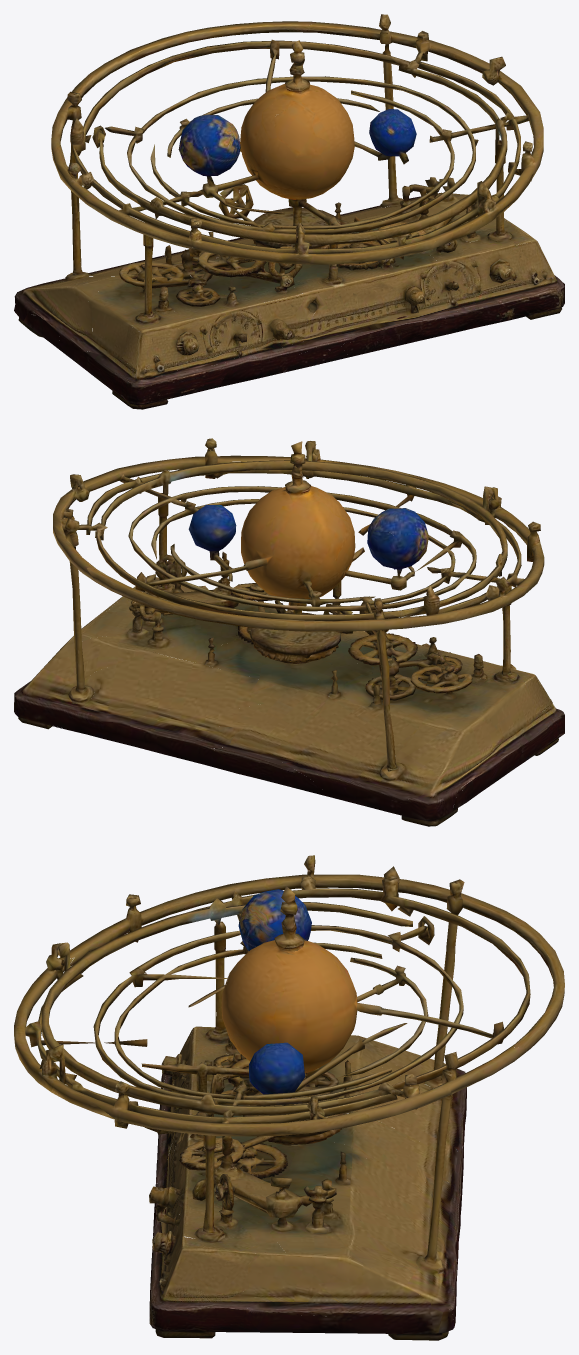
The model's file is the_celestial_orrery.glb.
3 renders of one model, top to bottom at view 1: azimuth 30°, elevation 25°; view 2: azimuth 150°, elevation 25°; view 3: azimuth 270°, elevation 25°, orthographic. The views are drawn at different scales.
Parts seen in each view (by area): view 1: tripo_node_f2754474-e090-436a-9652-a0b1a70d9f44; view 2: tripo_node_f2754474-e090-436a-9652-a0b1a70d9f44; view 3: tripo_node_f2754474-e090-436a-9652-a0b1a70d9f44.
Boxes of the visible parts, box(x1,y1,x2,y2) form: tripo_node_f2754474-e090-436a-9652-a0b1a70d9f44: box(14, 14, 564, 409); tripo_node_f2754474-e090-436a-9652-a0b1a70d9f44: box(14, 438, 564, 826); tripo_node_f2754474-e090-436a-9652-a0b1a70d9f44: box(14, 855, 564, 1340).
Bounding box in the file's own units: 0.9992 × 0.6134 × 0.9257.
1 material, 1 textured.
